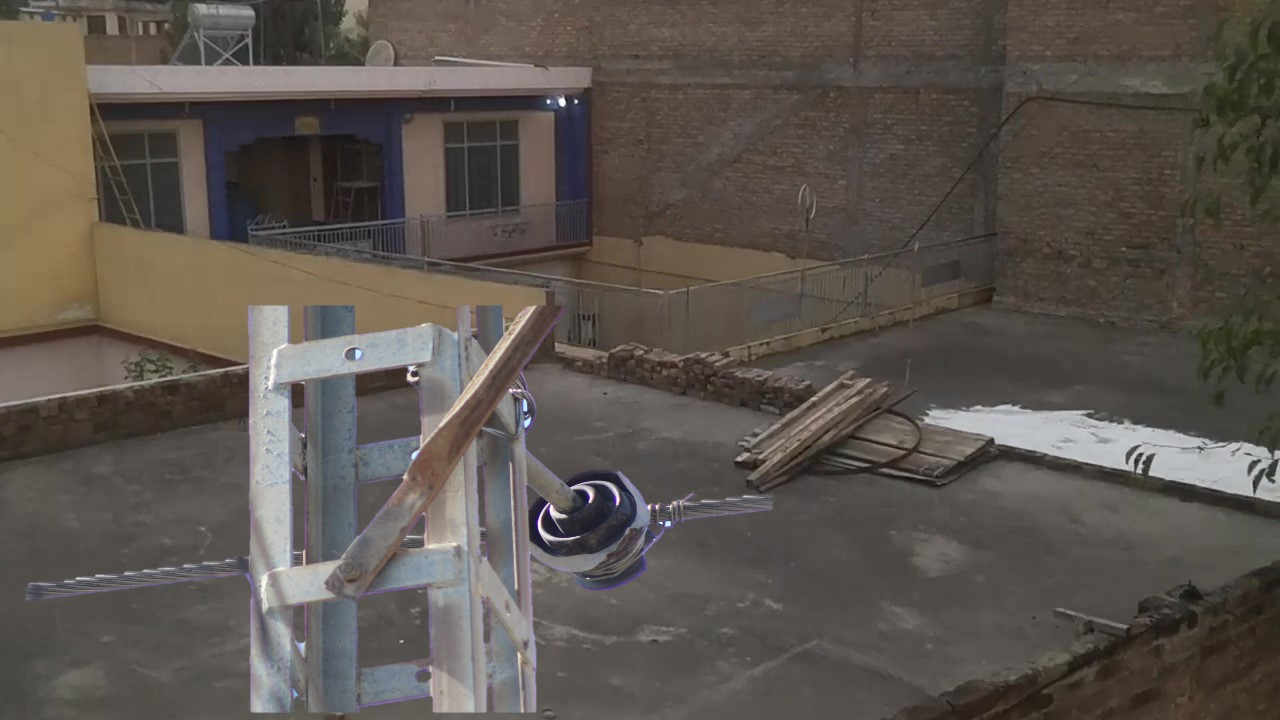defect_pin: (525, 466, 667, 600)
